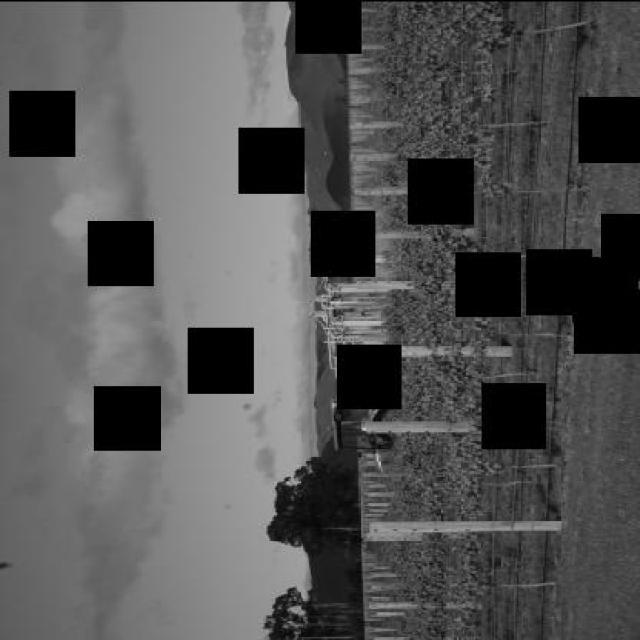Tratores - v5 YOLO V8L 2024-11-13: (303, 382, 432, 489)
